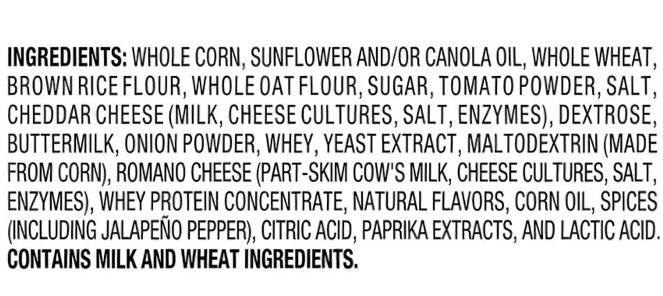ingredients: (2, 38, 663, 281)
